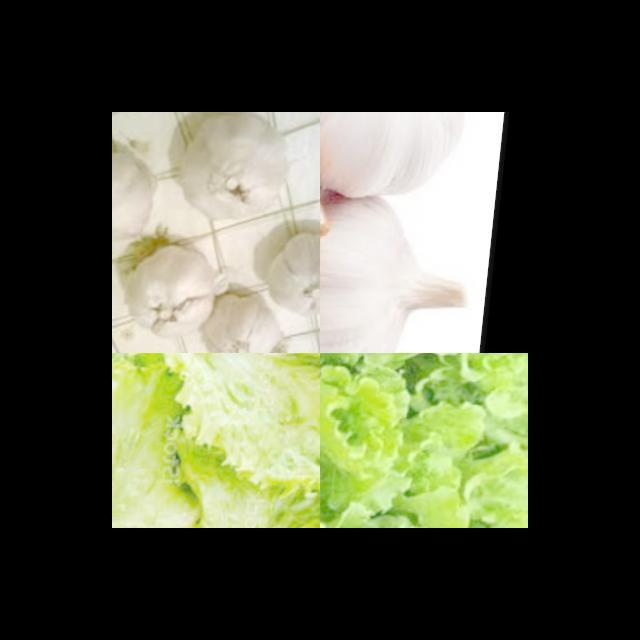garlic: (320, 183, 476, 353), (320, 112, 491, 201), (169, 112, 300, 221), (128, 245, 232, 342), (197, 290, 291, 353), (264, 221, 320, 322), (112, 149, 159, 248)
